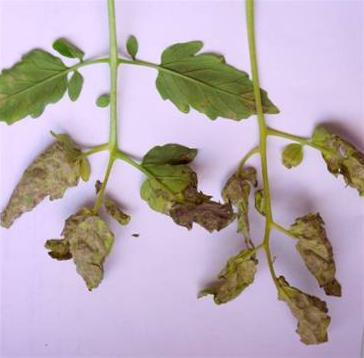Tomato mold leaf: (152, 34, 281, 123), (139, 142, 236, 237), (2, 131, 93, 231), (0, 53, 74, 130), (63, 208, 123, 302)
